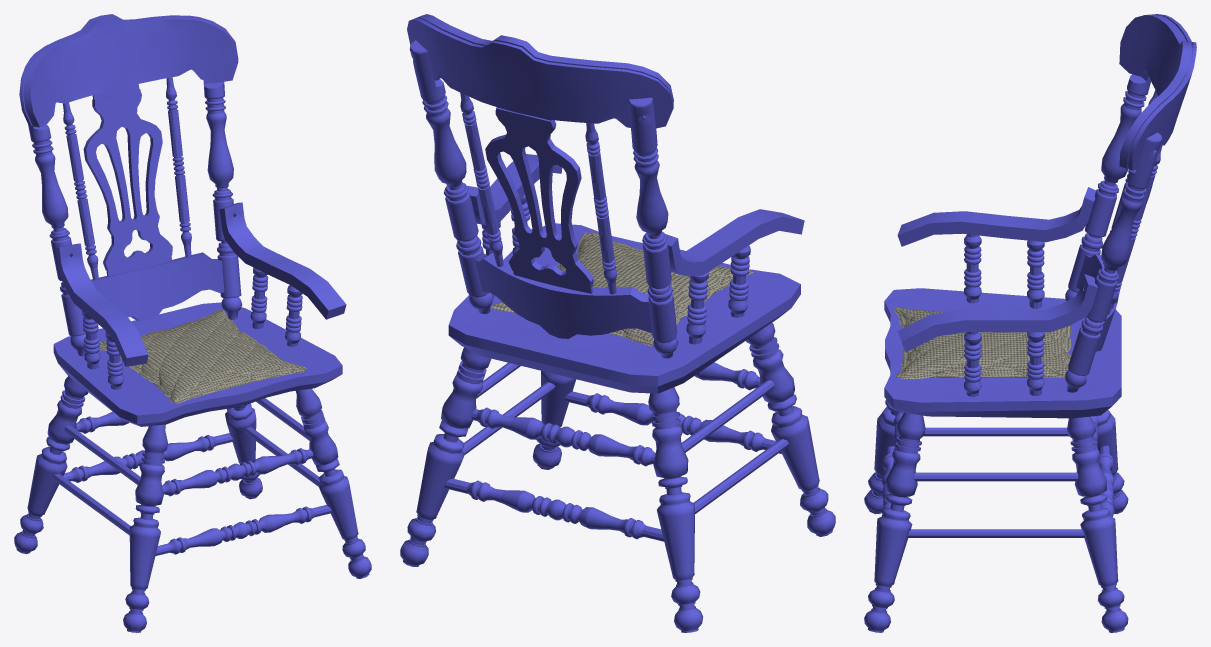
Rendered from Chair.FBX.
3 renders of one model, left to right at view 1: azimuth 30°, elevation 25°; view 2: azimuth 150°, elevation 25°; view 3: azimuth 270°, elevation 25°, orthographic. The views are drawn at different scales.
Parts seen in each view (by area): view 1: Chair, default_group_001; view 2: Chair, default_group_001; view 3: Chair, default_group_001.
Boxes of the visible parts, box(x1,y1,x2,y2) form: Chair: box(14, 14, 371, 632); default_group_001: box(99, 309, 307, 404); Chair: box(400, 14, 835, 632); default_group_001: box(491, 232, 753, 346); Chair: box(864, 14, 1196, 632); default_group_001: box(893, 307, 1071, 379).
Size of the model in its own units: 72.64 by 136 by 78.13.
